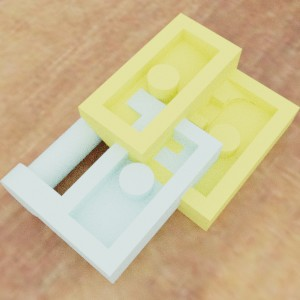lego: (78, 12, 299, 231), (0, 75, 223, 283)
